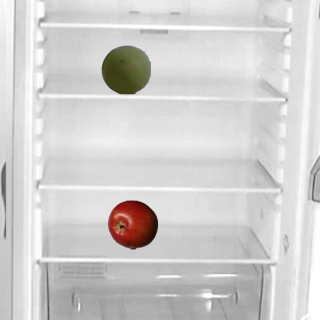Apple Braeburn: (107, 199, 157, 249)
Grape White 4: (100, 44, 150, 94)
